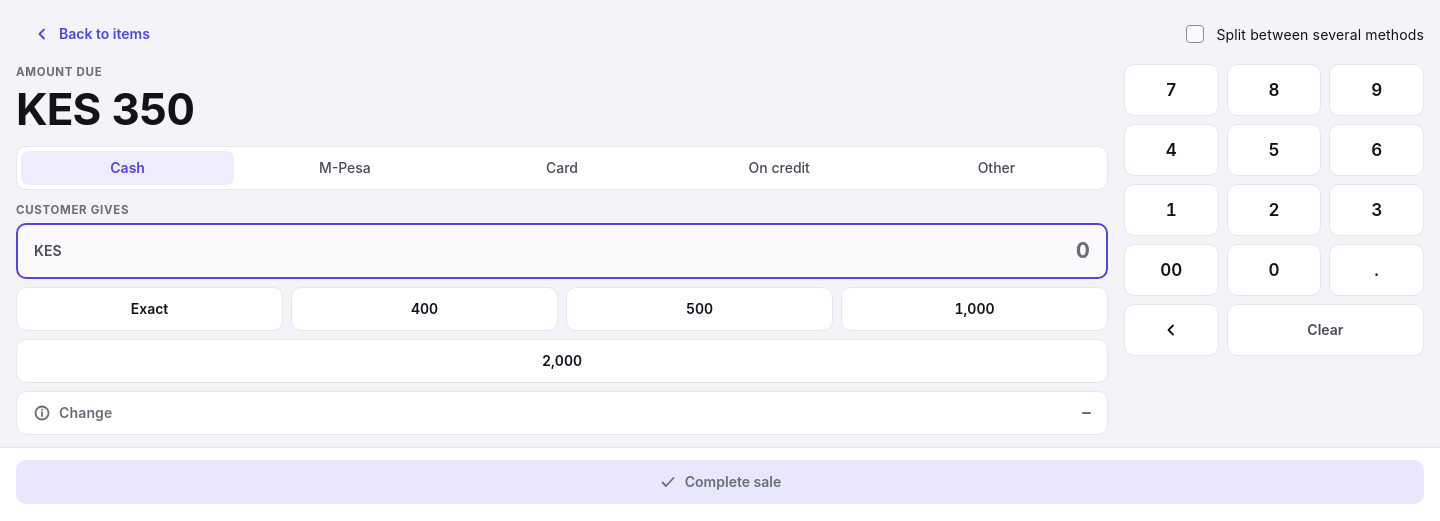
Test: cash: quick cash, pad and Change (AC-19) › Change says Give change with an icon and the amount to hand back
Click the button named "Customer gives KES 1,000". click: [974, 309]
box: [841,287,1108,331]
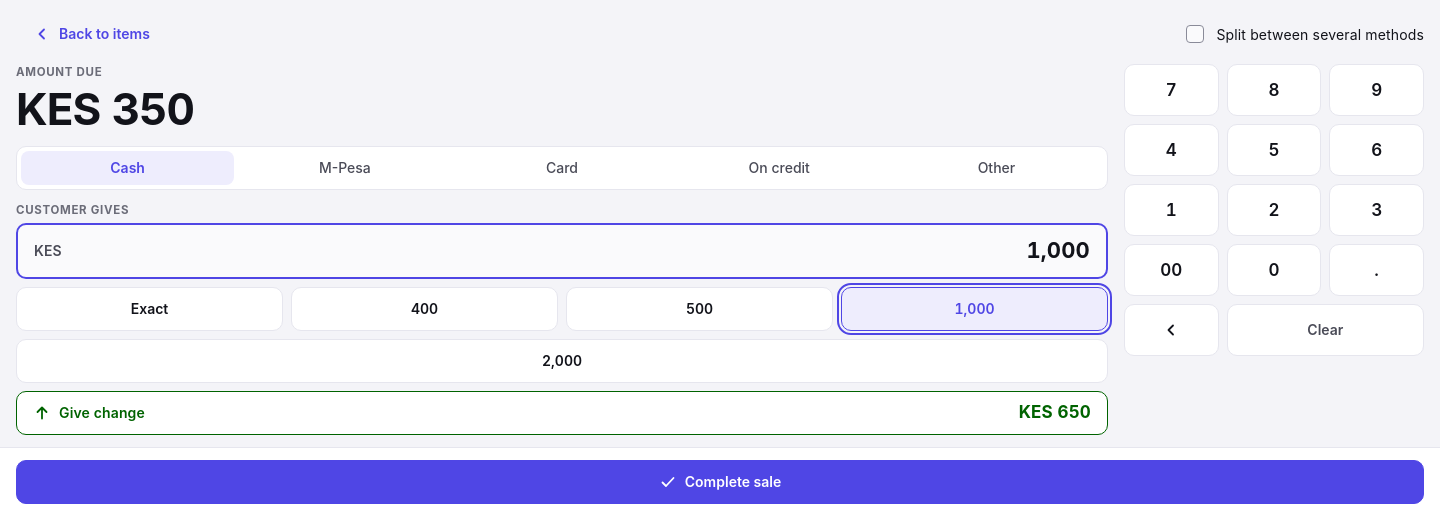
Check: the icon next to "Give change" is shown, box [33,404,51,422]
Check: the text "KES 650" is shown, box [1019,400,1091,426]
